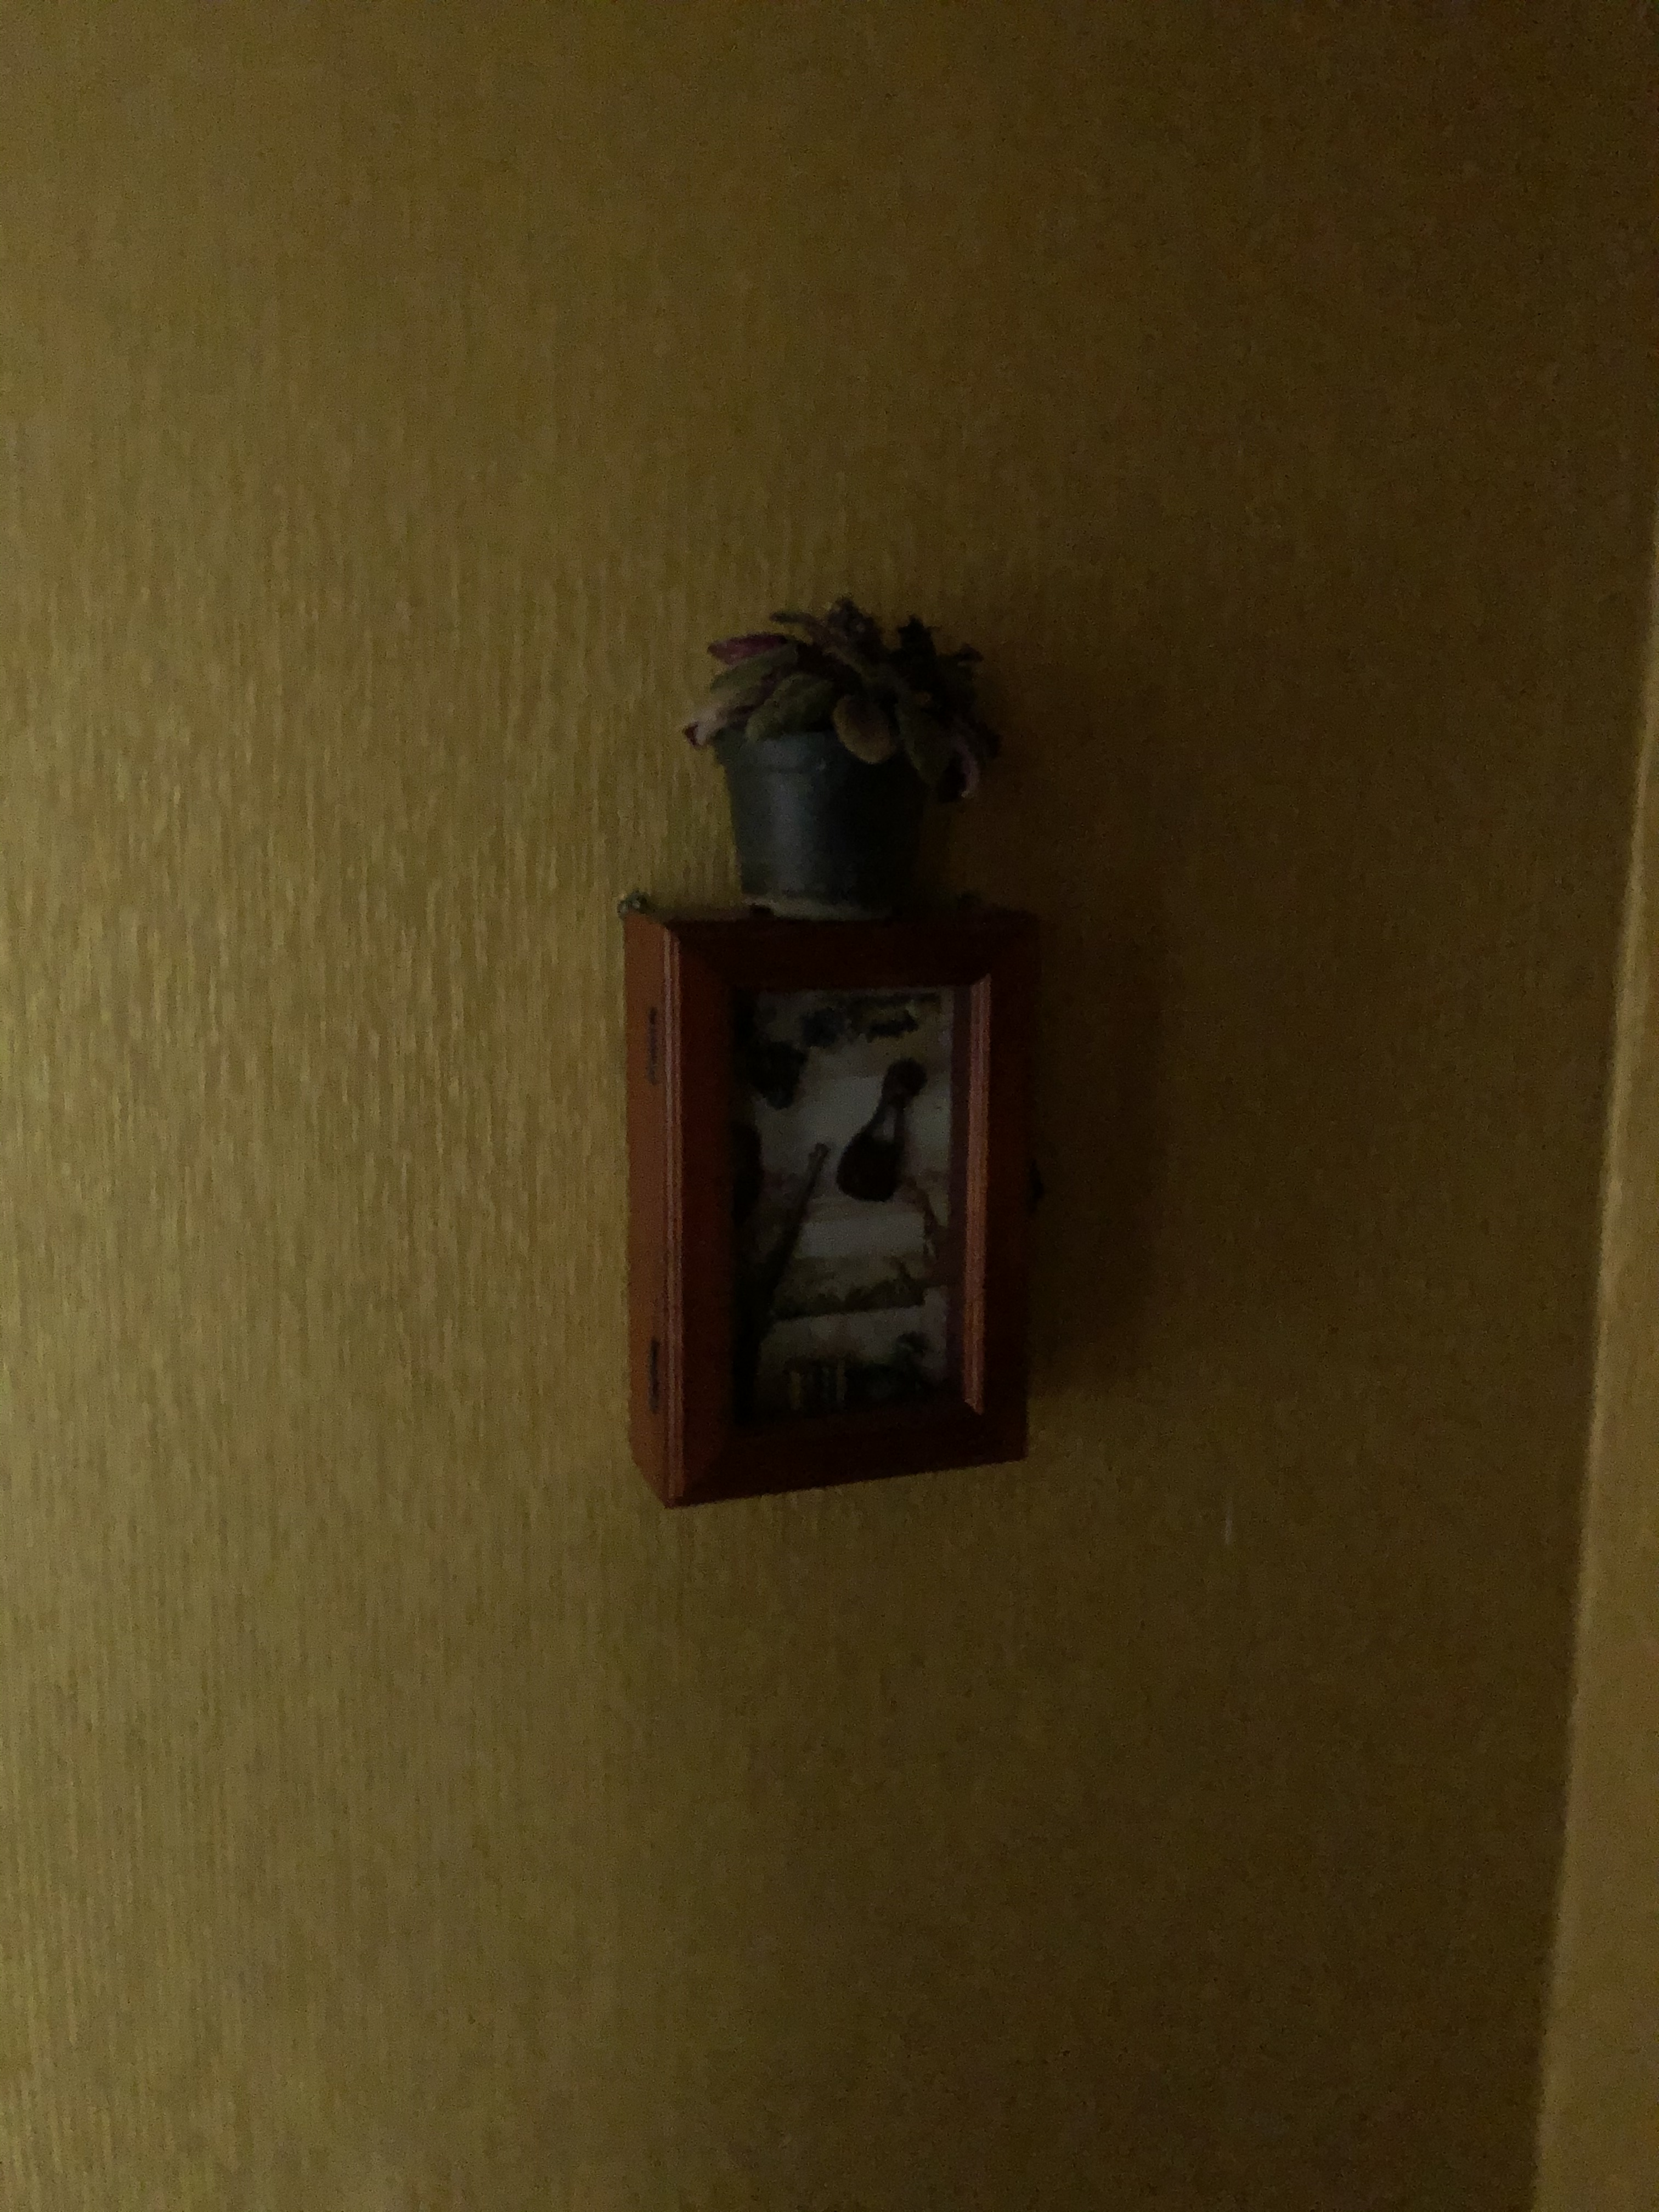ignore: (664, 587, 1023, 934)
